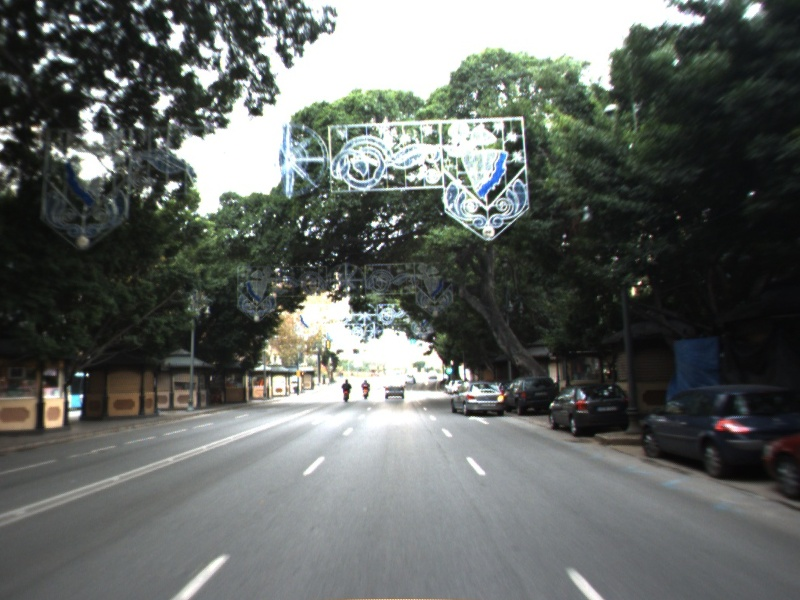STRAIGHT: (466, 414, 492, 426)
